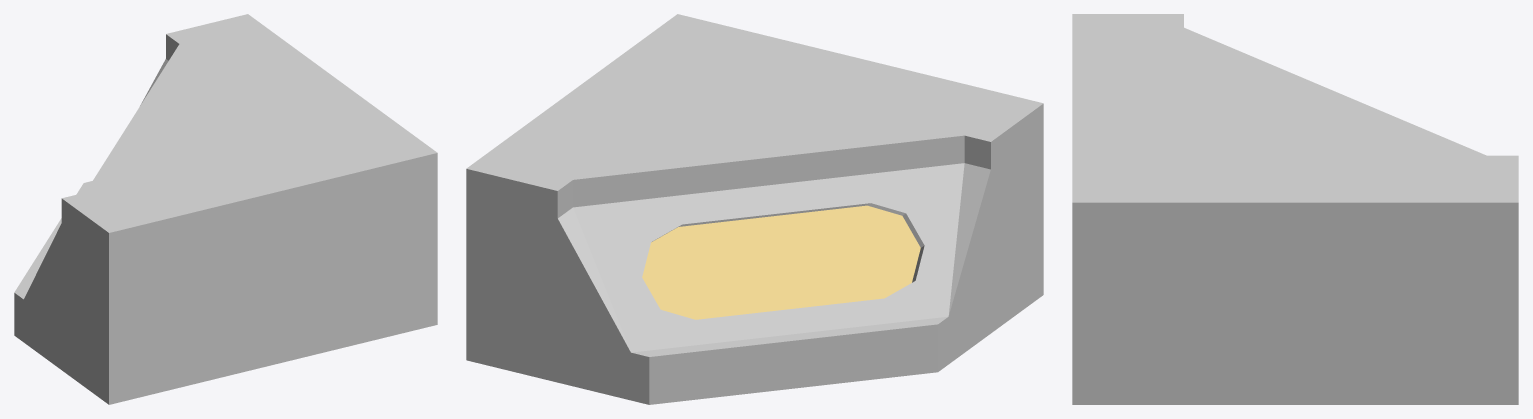
The model's file is SciFi_Modular_Wall_Trim_Corner_White_04.fbx.
The picture shows the model from 3 angles, left to right: view 1: azimuth 30°, elevation 25°; view 2: azimuth 150°, elevation 25°; view 3: azimuth 270°, elevation 25°; orthographic projection. The views are drawn at different scales.
Parts seen in each view (by area): view 1: SciFi_Modular_Wall_Trim_Corner_White_04; view 2: SciFi_Modular_Wall_Trim_Corner_White_04; view 3: SciFi_Modular_Wall_Trim_Corner_White_04.
Part boxes in pixels (bbox=[...]): SciFi_Modular_Wall_Trim_Corner_White_04: bbox=[14, 14, 437, 404]; SciFi_Modular_Wall_Trim_Corner_White_04: bbox=[466, 14, 1043, 404]; SciFi_Modular_Wall_Trim_Corner_White_04: bbox=[1072, 14, 1518, 404].
Size of the model in its own units: 39.37 by 19.69 by 39.37.
